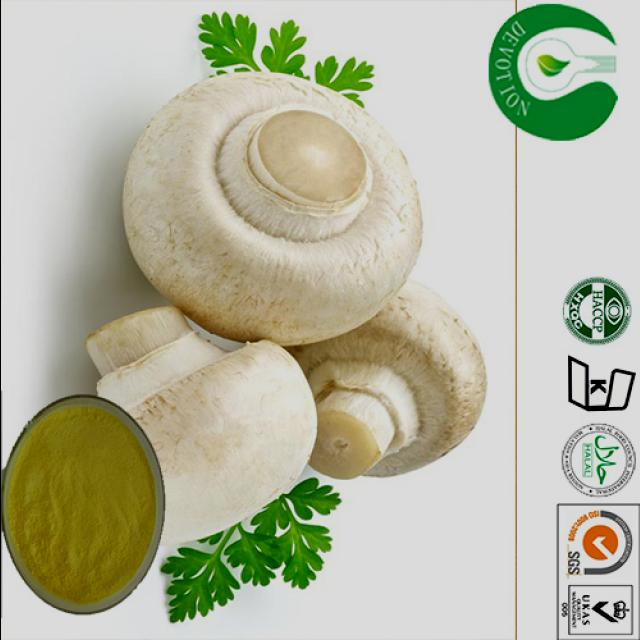Agaricus bisporus: (117, 74, 429, 344), (83, 302, 315, 582), (306, 280, 492, 508)
